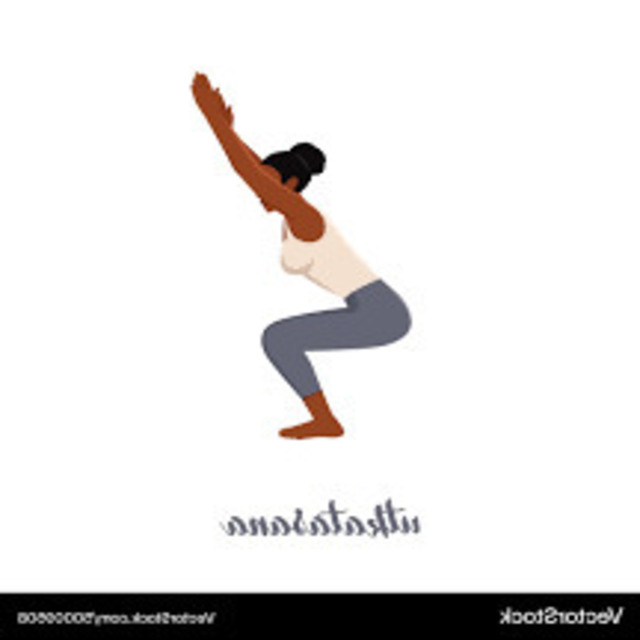Squat_Pose: (188, 71, 412, 436)
